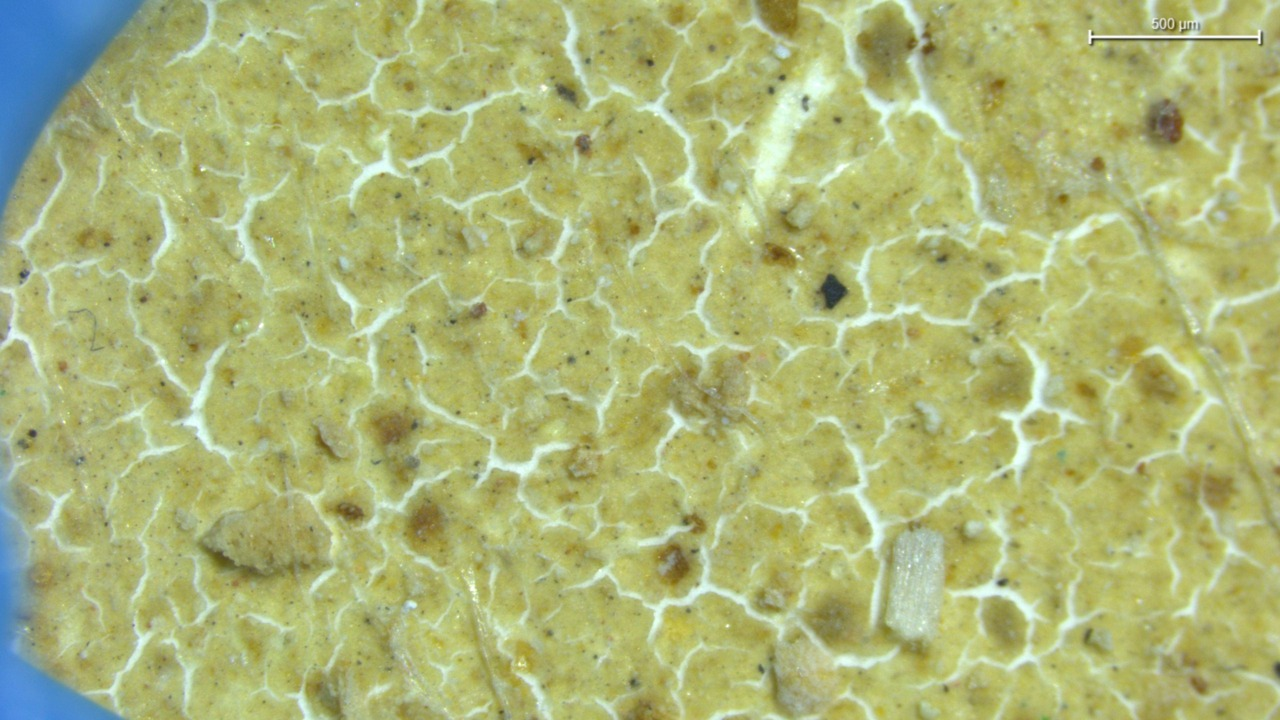microplastic_fragment: (200, 496, 330, 575), (885, 527, 945, 640), (772, 637, 838, 717)
